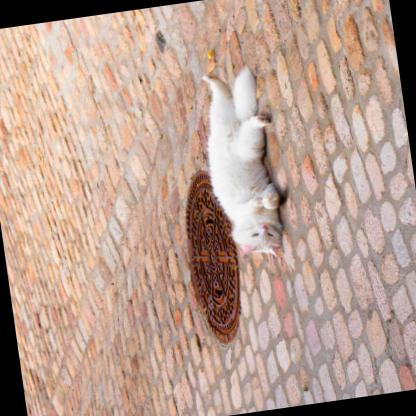manholes: (146, 143, 271, 360)
